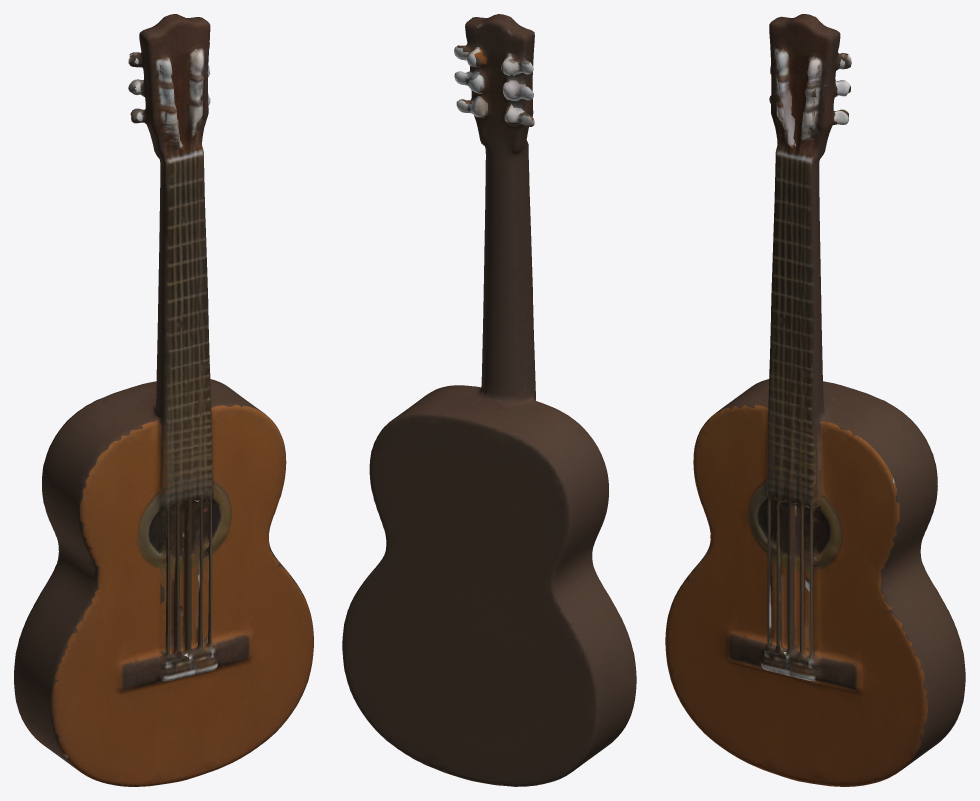
Rendered from guitarra.glb.
The picture shows the model from 3 angles, left to right: view 1: azimuth 30°, elevation 25°; view 2: azimuth 150°, elevation 25°; view 3: azimuth 330°, elevation 25°; orthographic projection. The views are drawn at different scales.
Visible parts, largest first — view 1: temp_mesh.ply; view 2: temp_mesh.ply; view 3: temp_mesh.ply.
Boxes of the visible parts, bbox=[...] form: temp_mesh.ply: bbox=[14, 14, 313, 786]; temp_mesh.ply: bbox=[342, 14, 636, 786]; temp_mesh.ply: bbox=[665, 14, 965, 786].
Size of the model in its own units: 0.3459 by 0.96 by 0.1118.
Materials: 1 (1 with a texture image).
